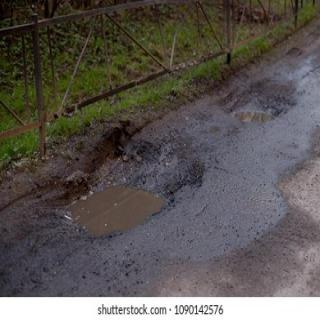pothole: (32, 125, 203, 241), (213, 79, 296, 122)
